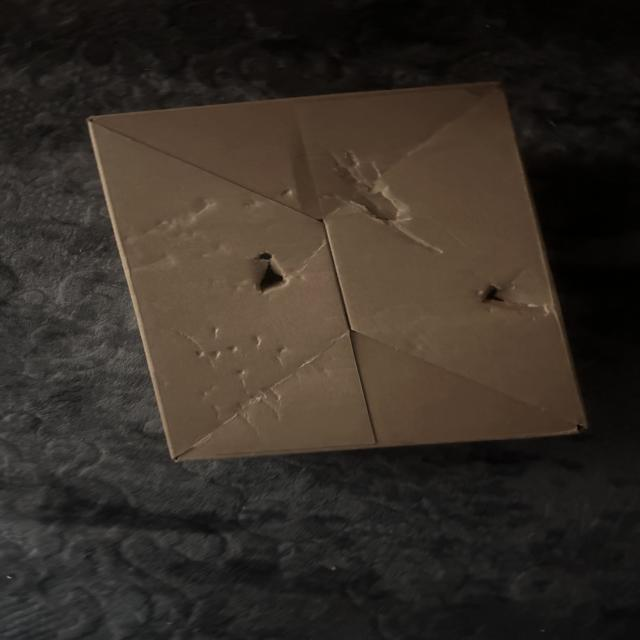damaged: (87, 74, 604, 473), (313, 143, 446, 256), (471, 271, 552, 329), (240, 240, 299, 300)
